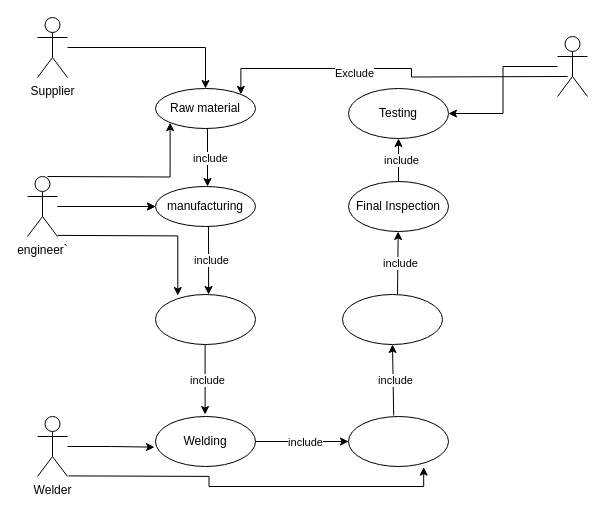
Image size: 607x515. Some labels were removed from this diagram. The centre of each missing label's shape, as x and y in pixels:
Assembly: point 392,319
Dealer: point 572,66
Painting: point 398,441
Stamping: point 205,319
